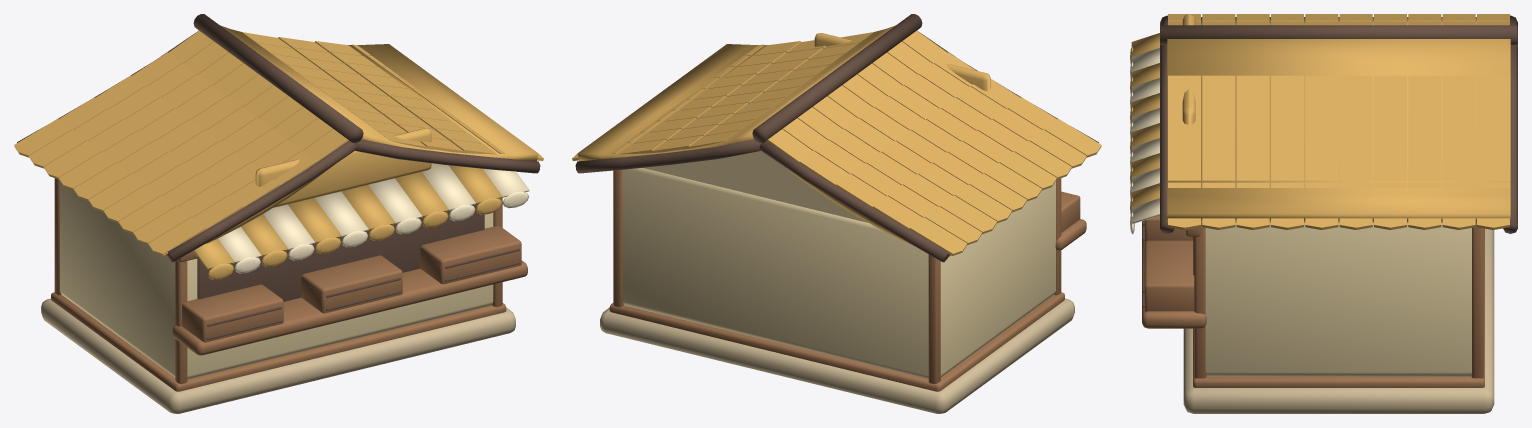
The model's file is premium.glb.
The picture shows the model from 3 angles, left to right: view 1: azimuth 30°, elevation 25°; view 2: azimuth 150°, elevation 25°; view 3: azimuth 270°, elevation 25°; orthographic projection. The views are drawn at different scales.
Visible parts, largest first — view 1: premium_crafted_mesh; view 2: premium_crafted_mesh; view 3: premium_crafted_mesh.
Boxes of the visible parts, box(x1,y1,x2,y2) form: premium_crafted_mesh: box(14, 14, 543, 413); premium_crafted_mesh: box(572, 14, 1101, 413); premium_crafted_mesh: box(1130, 14, 1517, 413).
Size of the model in its own units: 5.52 by 3.51 by 4.18.
